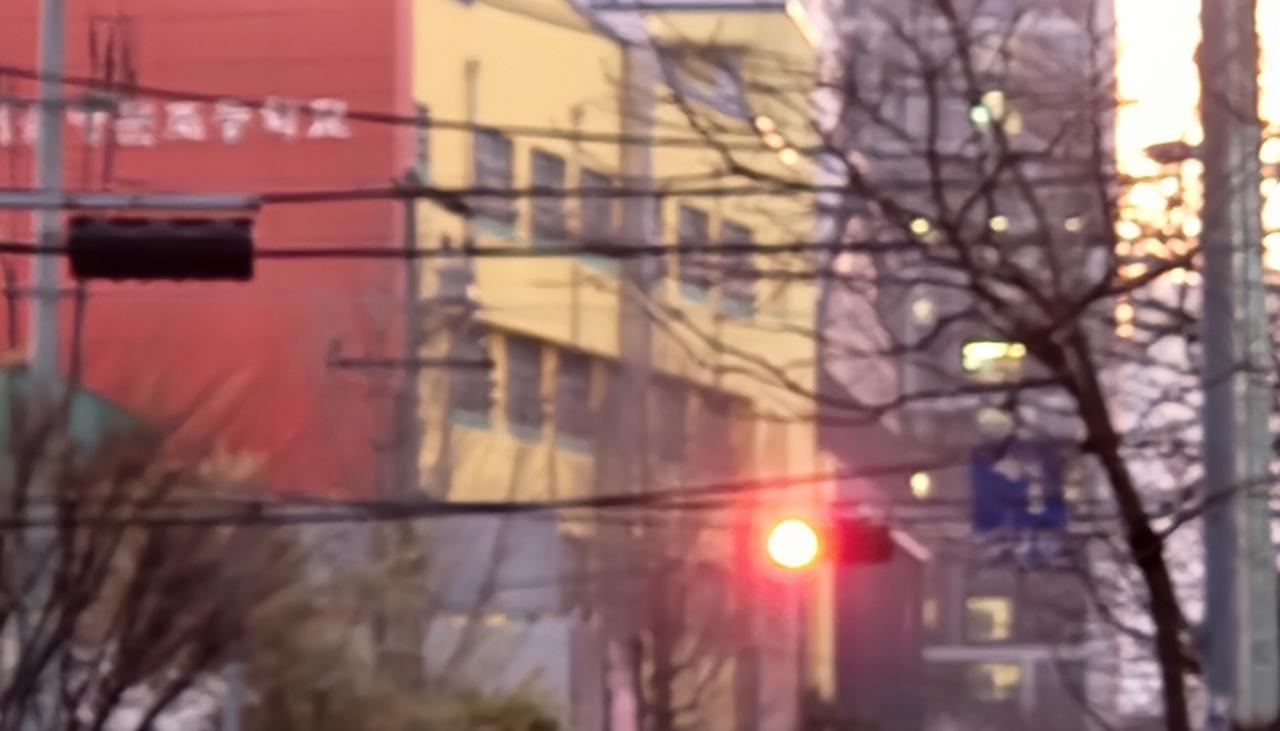Red Light: (764, 515, 830, 567)
